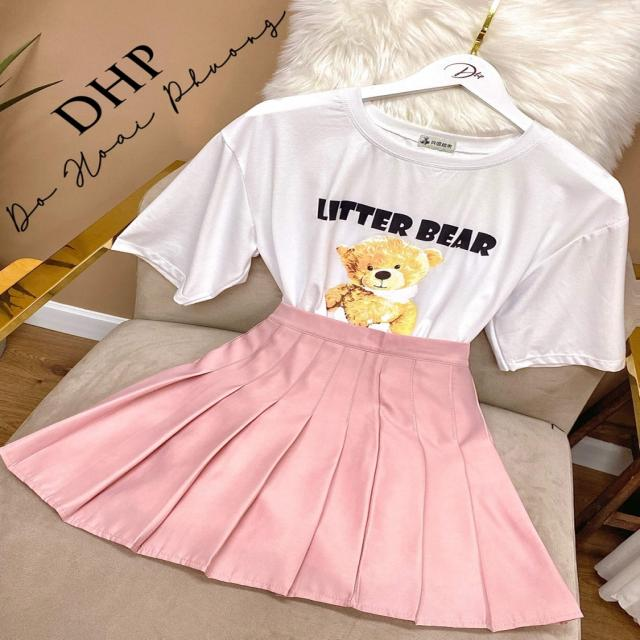clothes: (0, 46, 631, 634)
